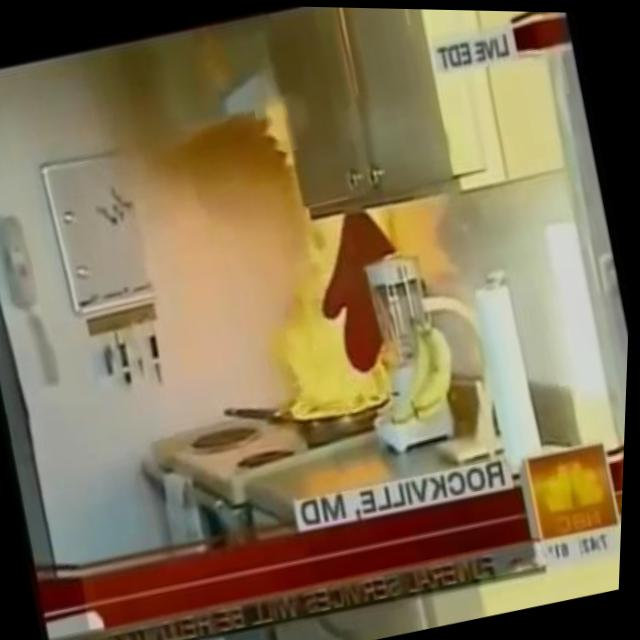fire: (233, 196, 407, 430)
